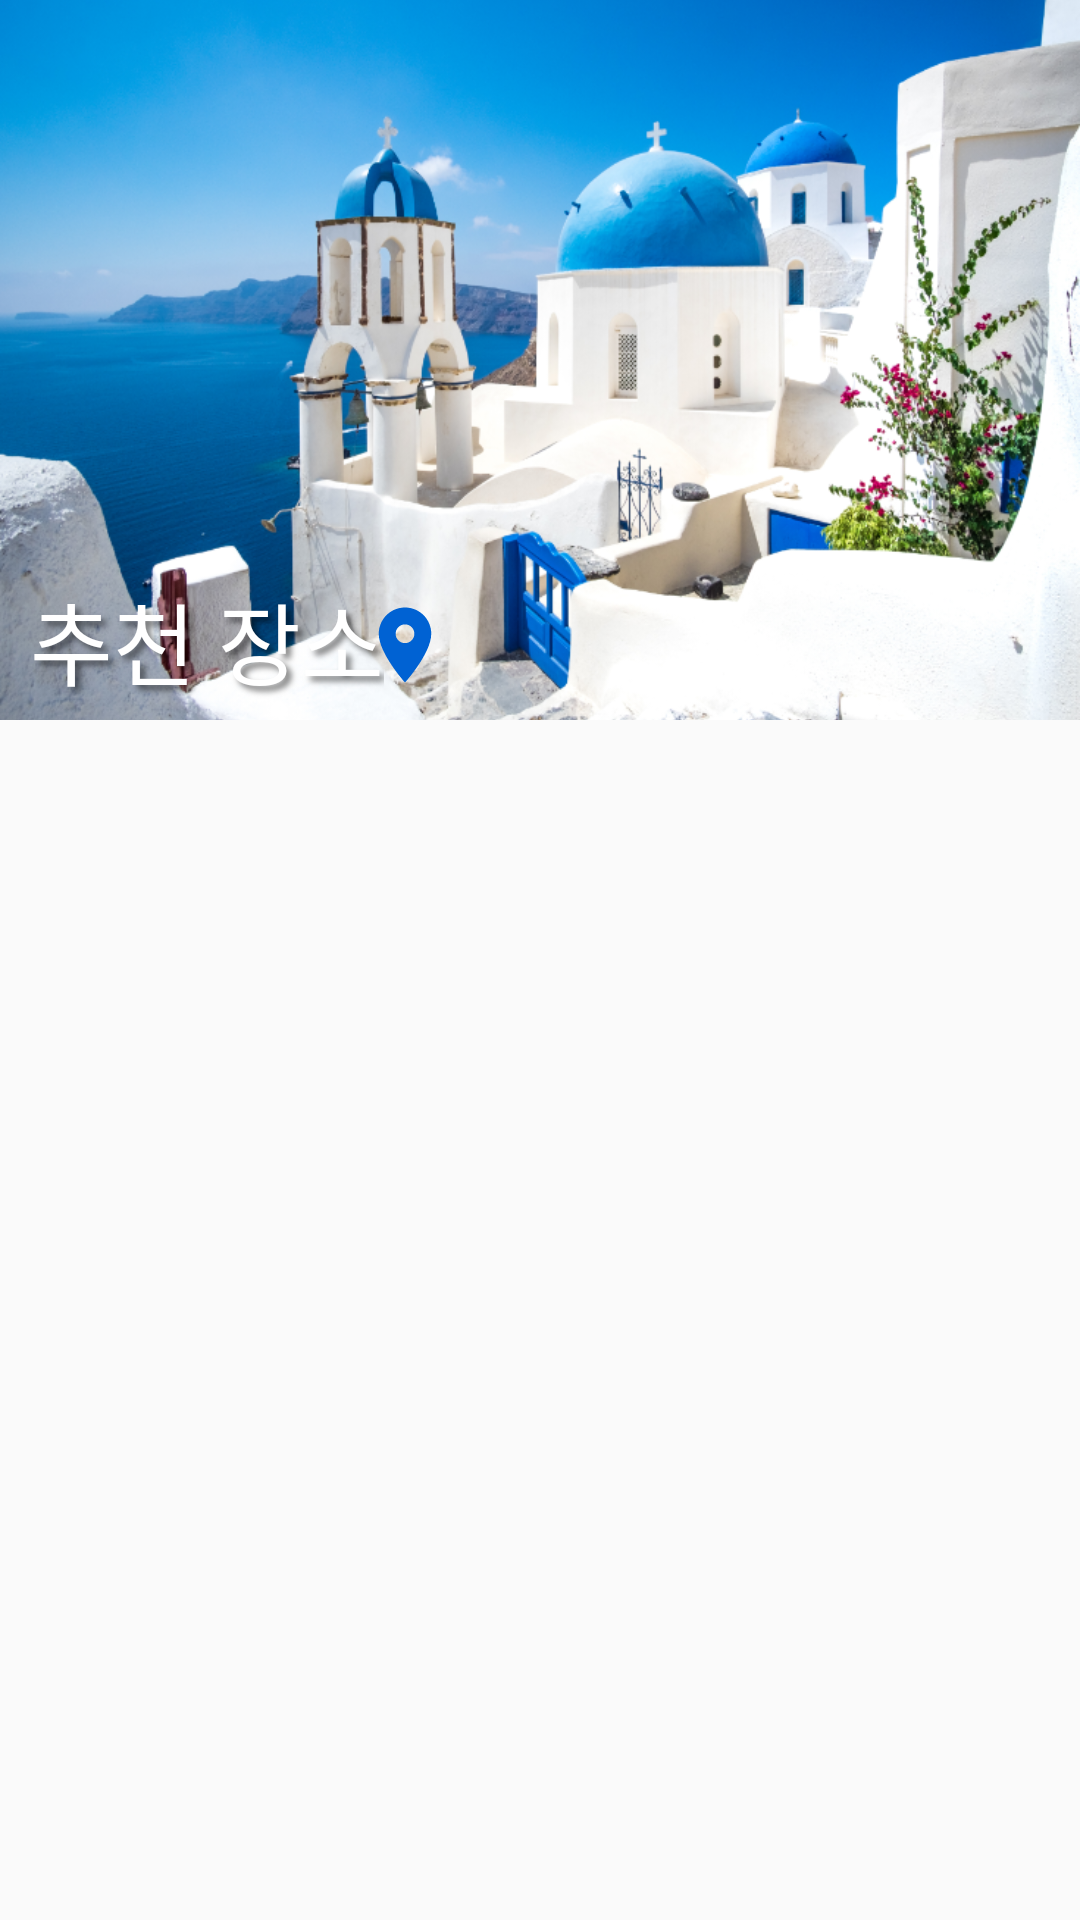

Icon click points for this 1080w x 1920h phone screenshot, format (x=x, y=y):
location: (x=405, y=645)
